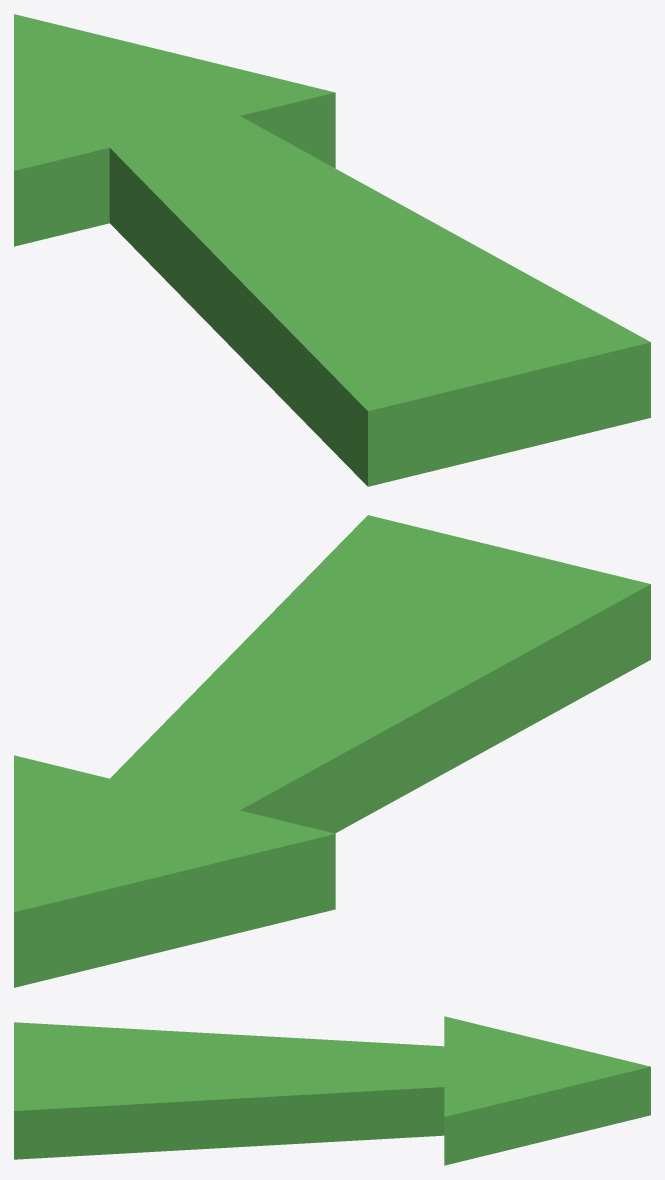
The model's file is arrow.fbx.
The picture shows the model from 3 angles, top to bottom: view 1: azimuth 30°, elevation 25°; view 2: azimuth 150°, elevation 25°; view 3: azimuth 270°, elevation 25°; orthographic projection. The views are drawn at different scales.
Parts seen in each view (by area): view 1: bevelPolygon1; view 2: bevelPolygon1; view 3: bevelPolygon1.
Part boxes in pixels (bbox=[...]): bevelPolygon1: bbox=[14, 14, 650, 486]; bevelPolygon1: bbox=[14, 515, 650, 987]; bevelPolygon1: bbox=[14, 1016, 650, 1165].
Bounding box in the file's own units: 44.5 × 10 × 119.
